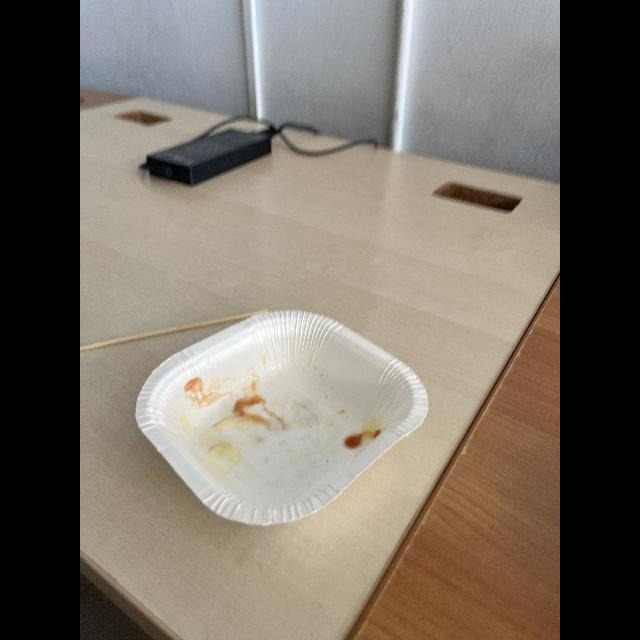cardboard_bowl: (131, 303, 431, 531)
stick: (80, 310, 260, 356)
